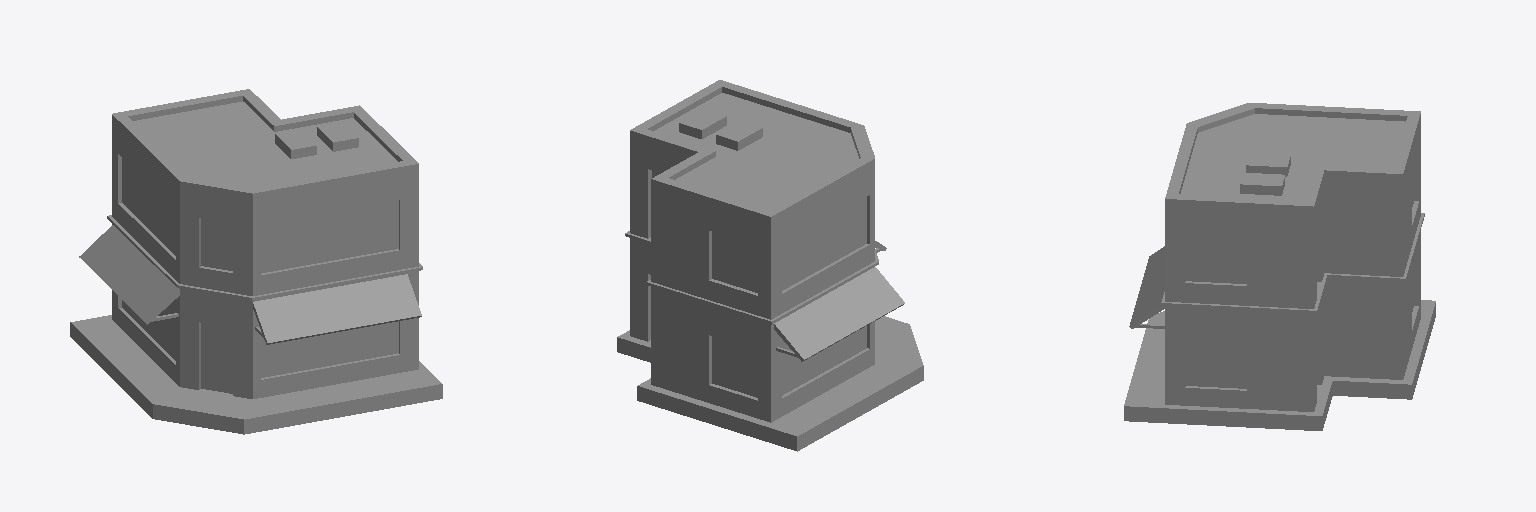
The model's file is BuildingOBJ9.obj.
3 renders of one model, left to right at view 1: azimuth 30°, elevation 25°; view 2: azimuth 150°, elevation 25°; view 3: azimuth 270°, elevation 25°, orthographic.
Visible parts, largest first — view 1: cabin_004.007_Untitled.011; view 2: cabin_004.007_Untitled.011; view 3: cabin_004.007_Untitled.011.
Boxes of the visible parts, box(x1,y1,x2,y2) form: cabin_004.007_Untitled.011: box(70, 89, 442, 434); cabin_004.007_Untitled.011: box(617, 80, 923, 451); cabin_004.007_Untitled.011: box(1124, 103, 1435, 430).
Bounding box in the file's own units: 3.14 × 2.6 × 3.28.